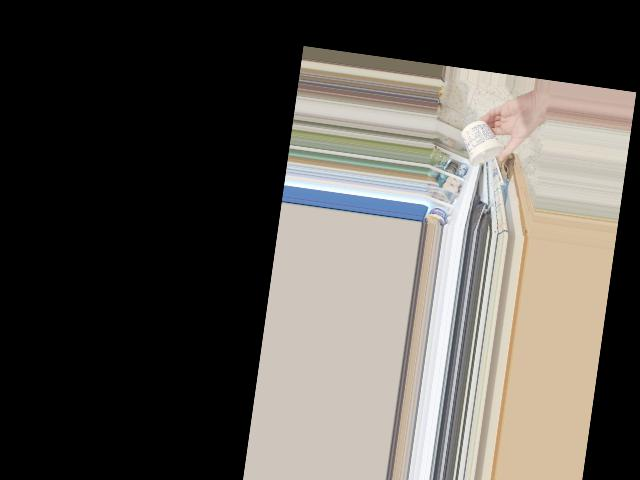cotage: (462, 117, 511, 167)
